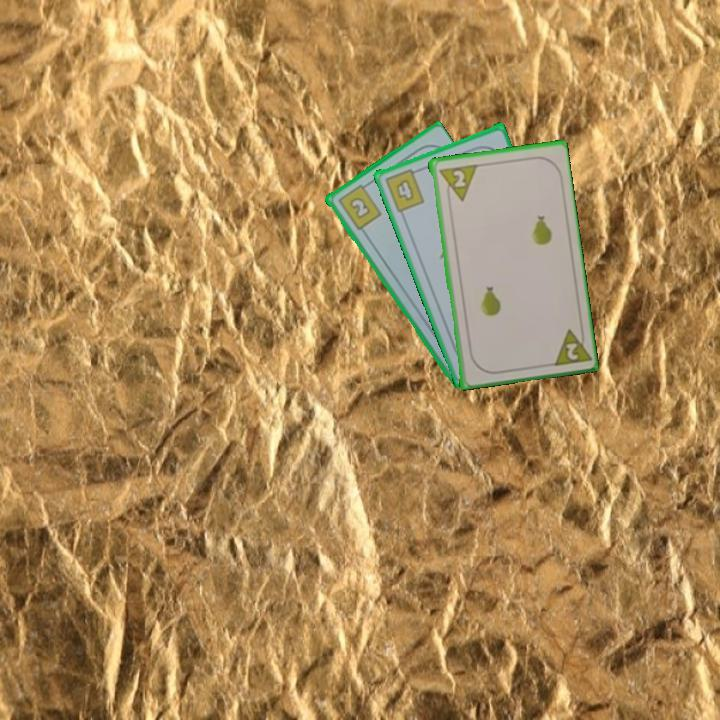2b: (334, 179, 384, 233)
2p: (547, 323, 592, 369), (435, 161, 478, 205)
4b: (381, 165, 427, 215)
